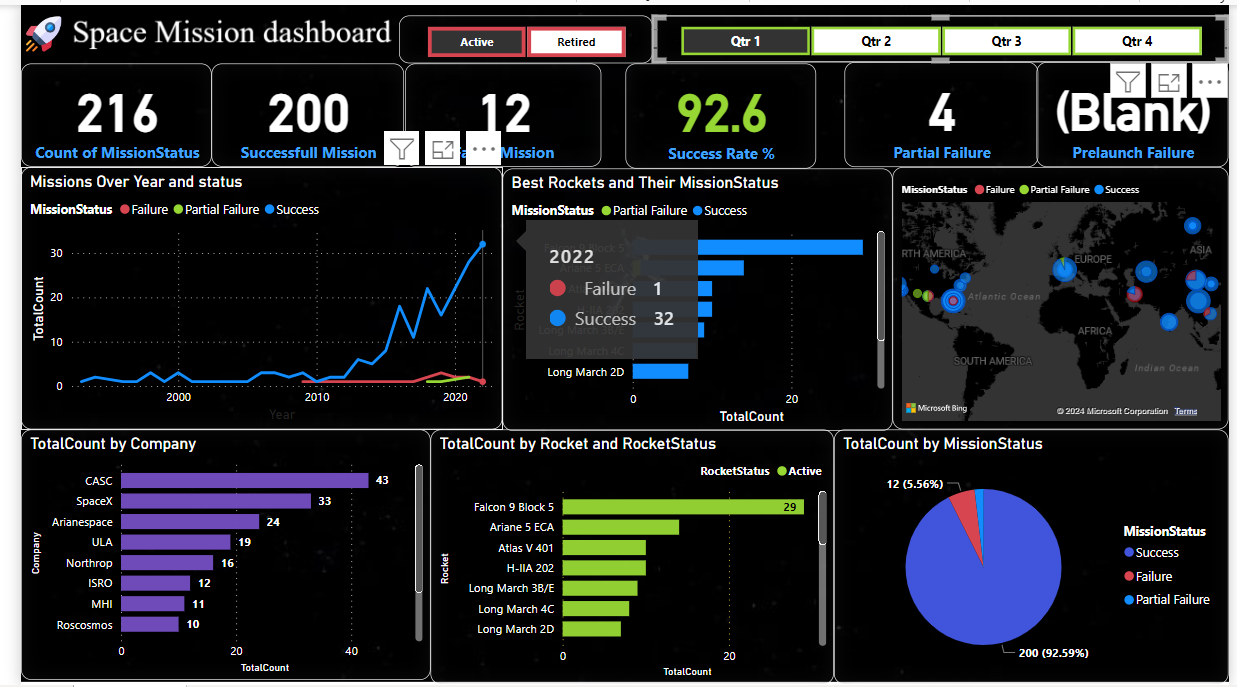

This screenshot's page, from the dashboard's own definition file:
{"tool":"powerbi","page":{"name":"Page 1","canvas":[1280,720],"ordinal":0},"visuals":[{"type":"card","fields":{"Values":["CountNonNull(space_missions.MissionStatus)"]},"box":[0,62.4,202.2,109.6],"z":0},{"type":"card","fields":{"Values":["space_missions.Partial Failure"]},"box":[872.6,60.4,205,111.3],"z":1000},{"type":"card","fields":{"Values":["space_missions.Failed Mission"]},"box":[406.3,62.4,207.9,109.6],"z":2000},{"type":"card","fields":{"Values":["space_missions.Successfull Mission"]},"box":[202.2,62.4,204.1,109.6],"z":3000},{"type":"card","fields":{"Values":["space_missions.Success Rate"]},"box":[640.5,62,201.9,111.3],"z":4000},{"type":"barChart","fields":{"Y":["space_missions.TotalCount"],"Category":["space_missions.Company"]},"box":[0,449.8,433.9,265.4],"z":5000},{"type":"lineChart","title":"Missions Over Year and status","fields":{"Category":["space_missions.Date.Variation.Date Hierarchy.Year"],"Y":["space_missions.TotalCount"],"Series":["space_missions.MissionStatus"]},"box":[0,171.7,510.2,278.1],"z":6000},{"type":"barChart","title":"Best Rockets and Their MissionStatus","fields":{"Y":["space_missions.TotalCount"],"Category":["space_missions.Rocket"],"Series":["space_missions.MissionStatus"]},"box":[510.2,173.2,413.2,278.1],"z":7000},{"type":"barChart","fields":{"Y":["space_missions.TotalCount"],"Category":["space_missions.Rocket"],"Series":["space_missions.RocketStatus"]},"box":[433.9,449.8,427.5,270.2],"z":8000},{"type":"pieChart","fields":{"Y":["space_missions.TotalCount"],"Category":["space_missions.MissionStatus"]},"box":[861.5,449.8,418,270.2],"z":9000},{"type":"card","fields":{"Values":["space_missions.Prelaunch Failure"]},"box":[1076,60.4,203.4,111.3],"z":10000},{"type":"slicer","title":"Quarter","fields":{"Values":["space_missions.Date.Variation.Date Hierarchy.Quarter"]},"box":[669.1,11.1,610.3,49.3],"z":11000},{"type":"image","box":[0,0,47.7,62],"z":12000},{"type":"slicer","title":"Quarter","fields":{"Values":["space_missions.RocketStatus"]},"box":[400.5,11.1,268.6,50.9],"z":13000},{"type":"map","fields":{"Category":["space_missions.Location"],"Size":["space_missions.TotalCount"],"Series":["space_missions.MissionStatus"]},"box":[923.4,171.7,356,278.1],"z":14000},{"type":"image","box":[41.3,0,364,62],"z":15000}]}

Visuals, with their boxes in screenshot pixels (x1, y1, x2, y2), scaled from the page's 1280x720 canvas onto the 1237x687 screenshot:
card - CountNonNull(space_missions.MissionStatus): bbox(0, 60, 195, 164)
card - space_missions.Partial Failure: bbox(843, 58, 1041, 164)
card - space_missions.Failed Mission: bbox(393, 60, 594, 164)
card - space_missions.Successfull Mission: bbox(195, 60, 393, 164)
card - space_missions.Success Rate: bbox(619, 59, 814, 165)
barChart - space_missions.TotalCount x space_missions.Company: bbox(0, 429, 419, 682)
"Missions Over Year and status" lineChart: bbox(0, 164, 493, 429)
"Best Rockets and Their MissionStatus" barChart: bbox(493, 165, 892, 431)
barChart - space_missions.TotalCount x space_missions.Rocket: bbox(419, 429, 832, 686)
pieChart - space_missions.TotalCount x space_missions.MissionStatus: bbox(833, 429, 1236, 686)
card - space_missions.Prelaunch Failure: bbox(1040, 58, 1236, 164)
"Quarter" slicer: bbox(647, 11, 1236, 58)
image: bbox(0, 0, 46, 59)
"Quarter" slicer: bbox(387, 11, 647, 59)
map - space_missions.Location x space_missions.TotalCount: bbox(892, 164, 1236, 429)
image: bbox(40, 0, 392, 59)
